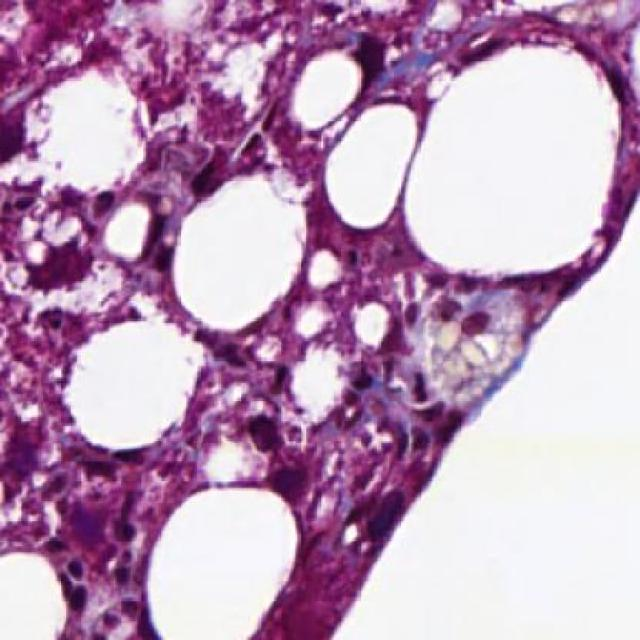inflammation: (248, 414, 333, 504), (342, 26, 401, 112), (349, 483, 416, 551), (46, 537, 99, 622), (148, 194, 180, 283)
